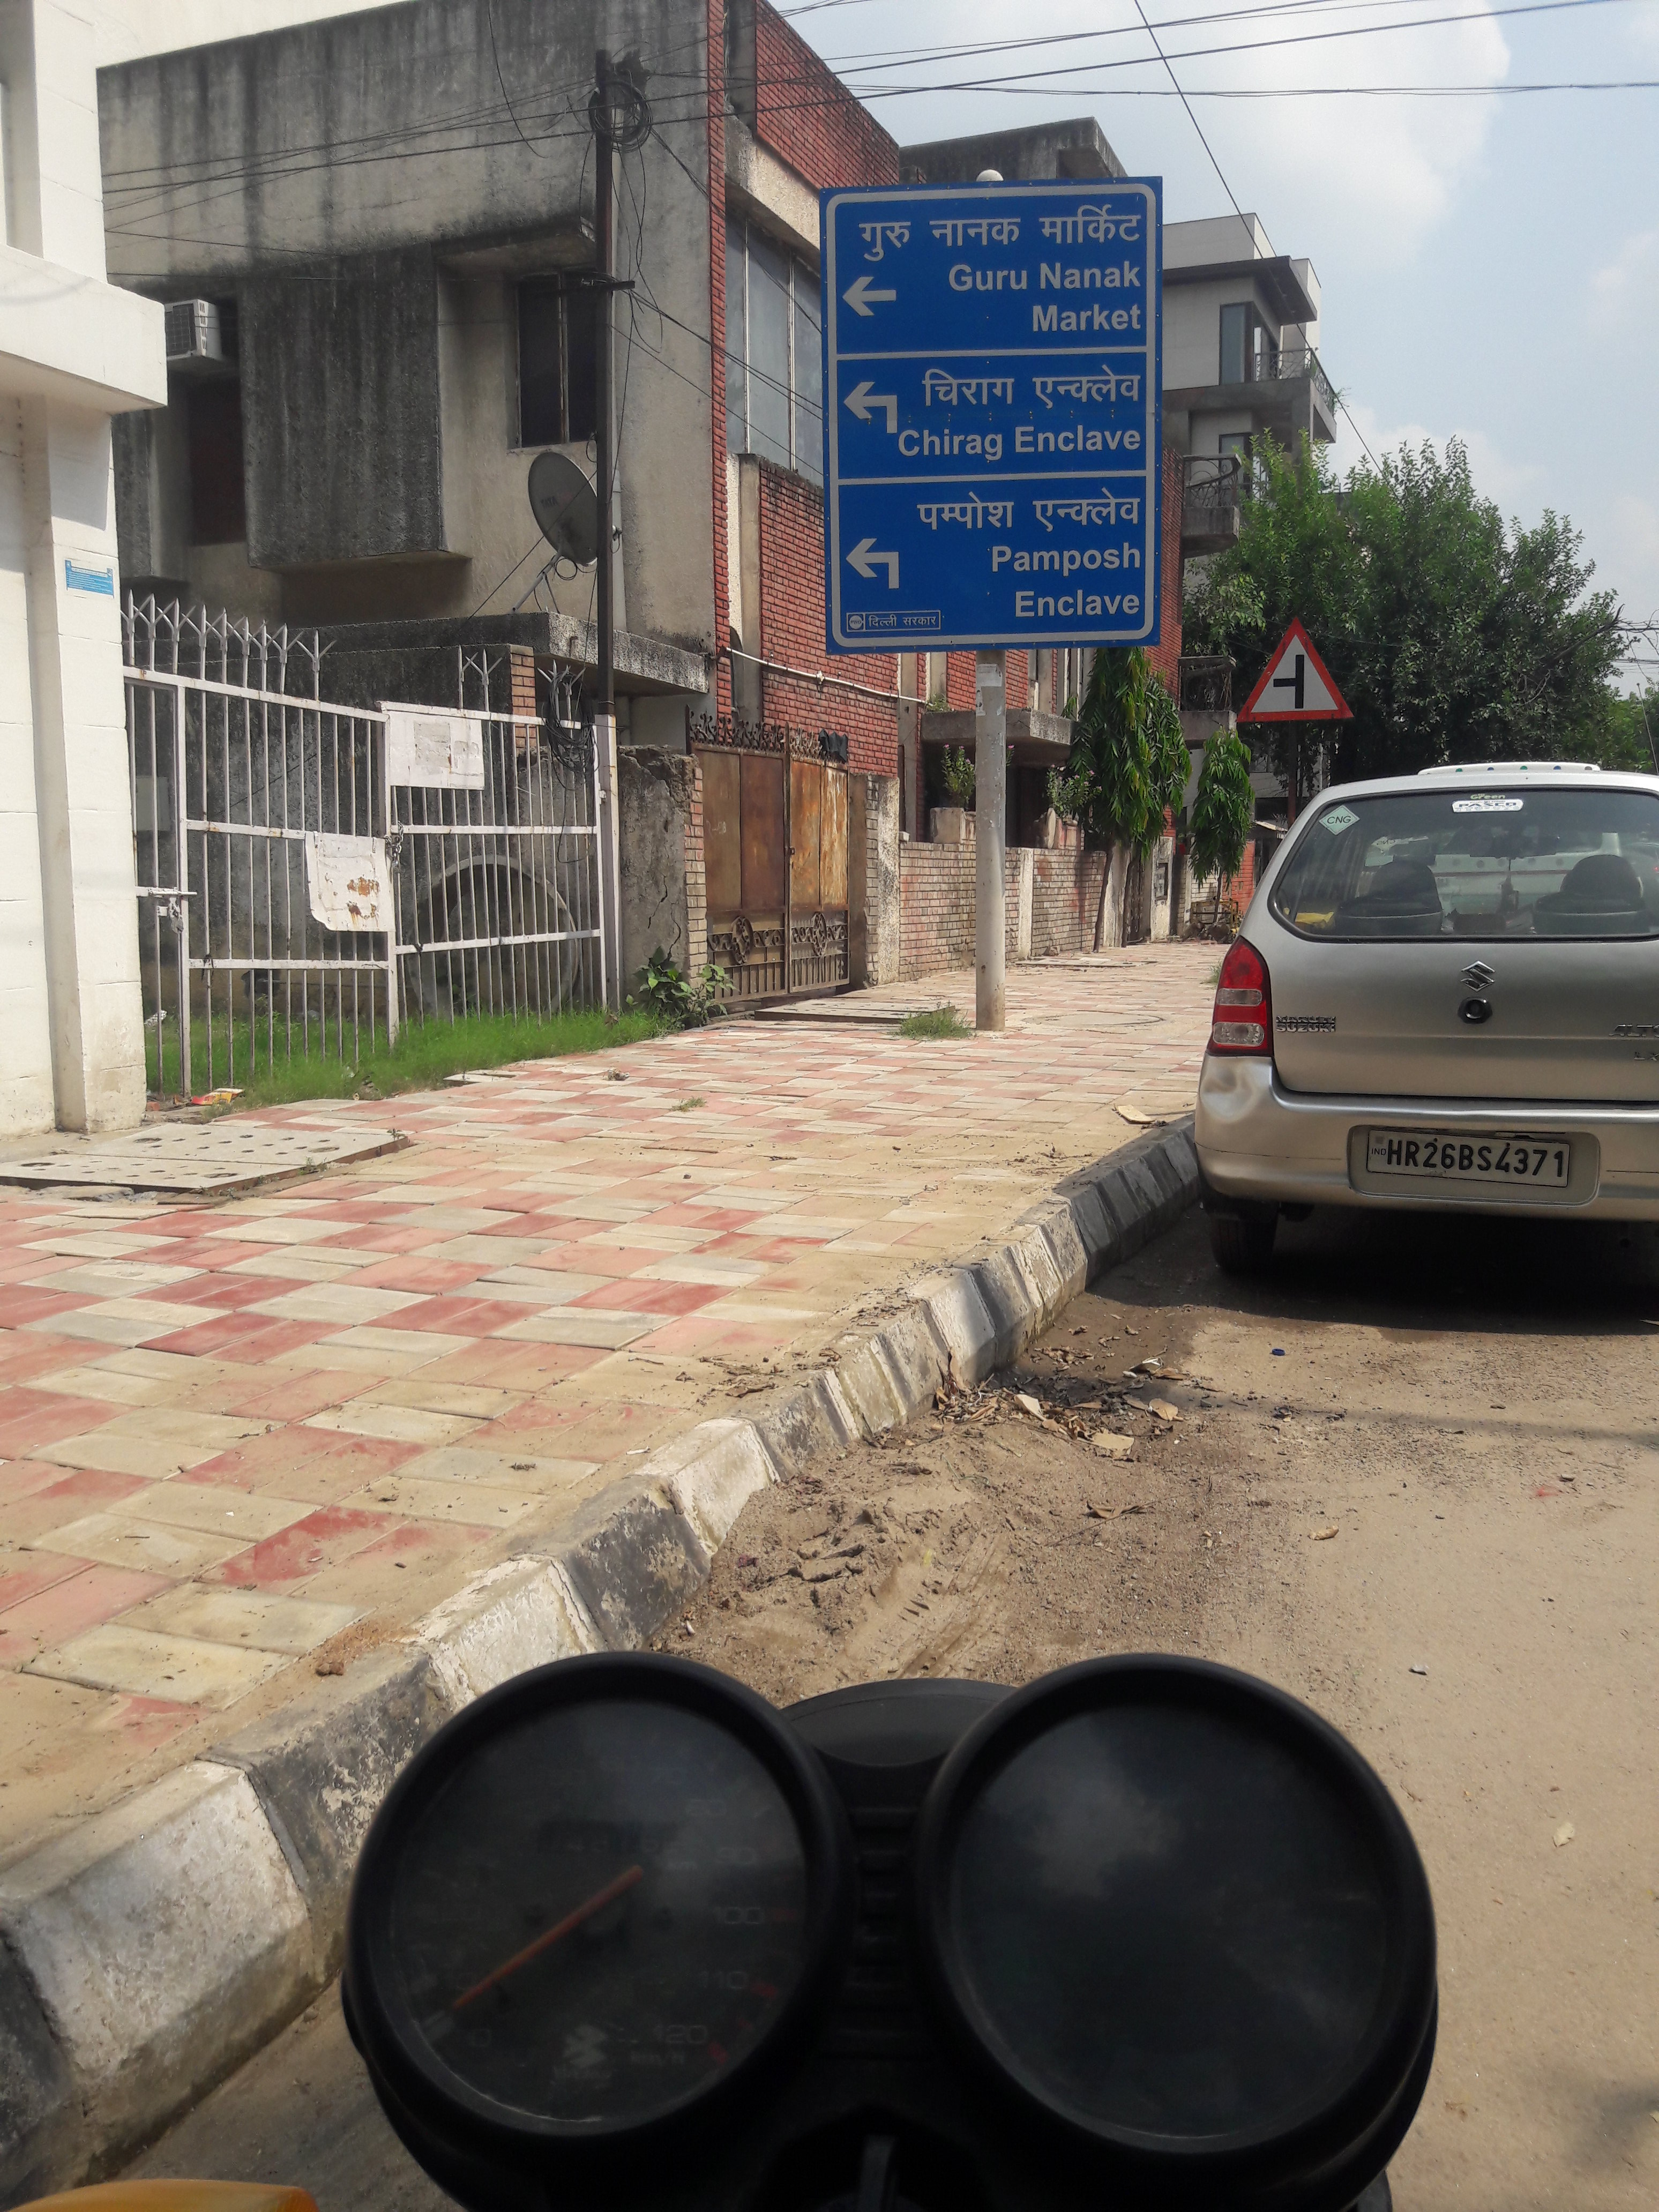traffic_sign: (1234, 620, 1354, 723)
